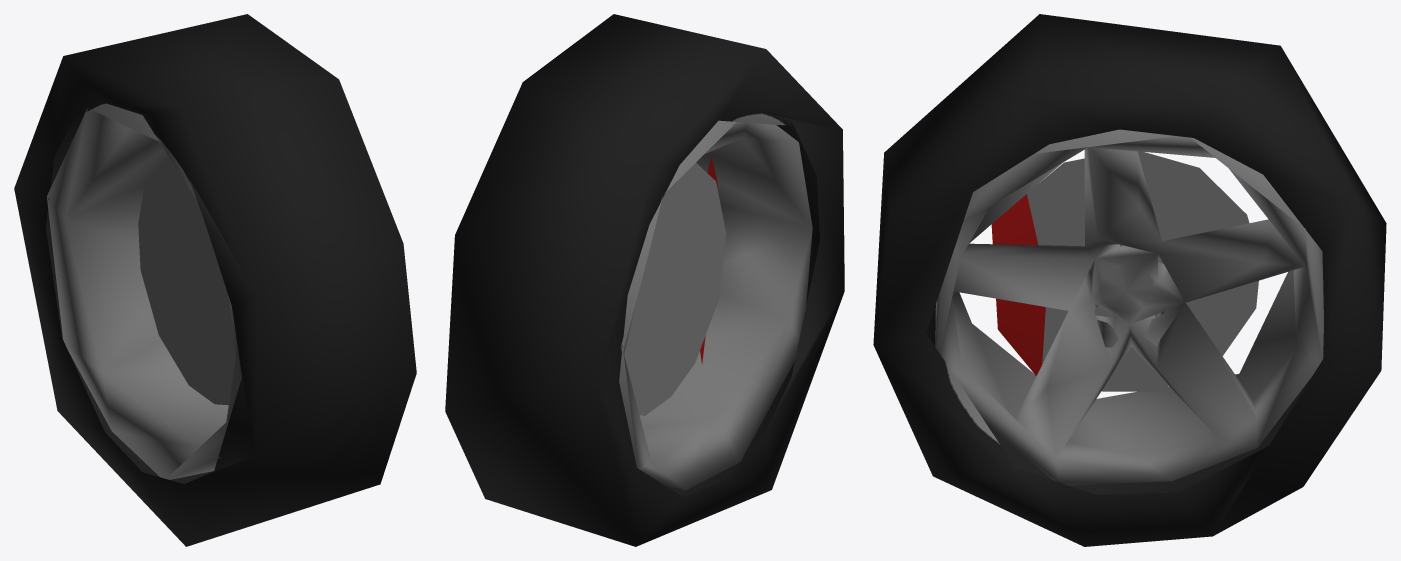
The model's file is steerOne.glb.
The picture shows the model from 3 angles, left to right: view 1: azimuth 30°, elevation 25°; view 2: azimuth 150°, elevation 25°; view 3: azimuth 270°, elevation 25°; orthographic projection. The views are drawn at different scales.
Parts seen in each view (by area): view 1: steerLow; view 2: steerLow; view 3: steerLow.
Part boxes in pixels (left/top/right/bottom): steerLow: left=14, top=14, right=416, bottom=546; steerLow: left=445, top=14, right=844, bottom=546; steerLow: left=873, top=14, right=1386, bottom=546.
Size of the model in its own units: 0.0597 by 0.1573 by 0.1611.
Materials: 1 (1 with a texture image).
